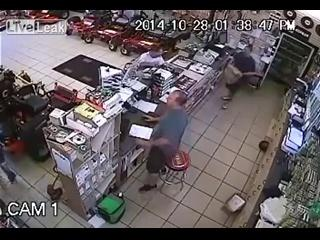Normal: (138, 89, 188, 193), (220, 44, 262, 109)
